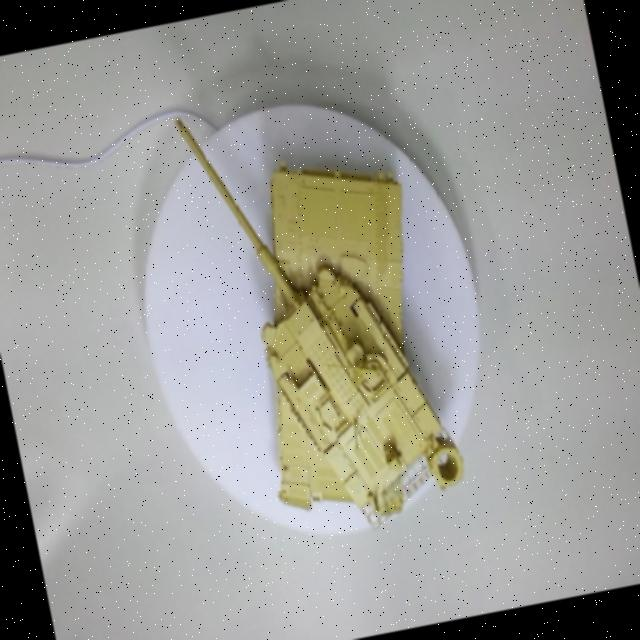korea tank: (82, 74, 529, 582)
